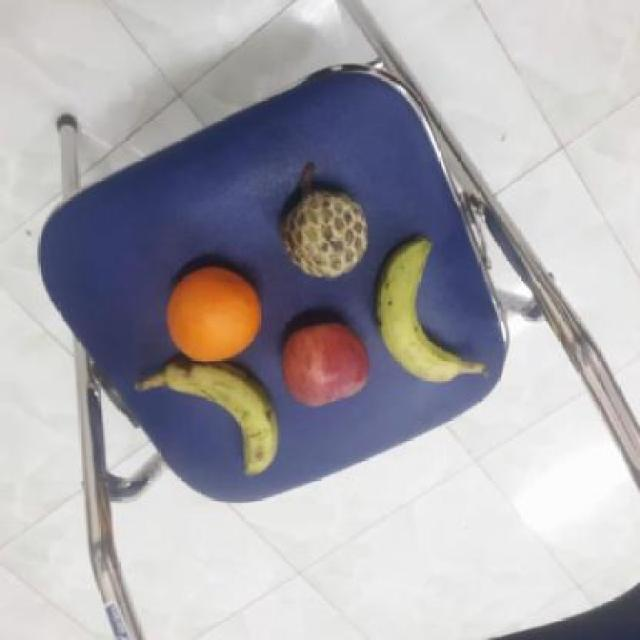apple: (275, 318, 371, 410)
banana: (371, 235, 475, 387), (157, 362, 280, 480)
oren: (162, 263, 258, 363)
sugar apple: (278, 192, 372, 280)
